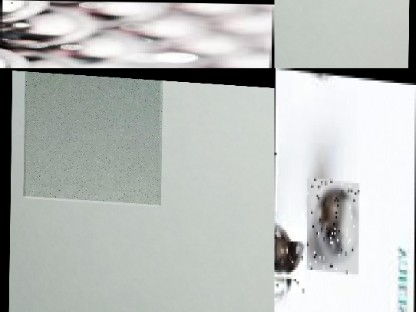ironball: (305, 176, 358, 272), (274, 225, 303, 293), (274, 105, 276, 211), (0, 0, 10, 4)
